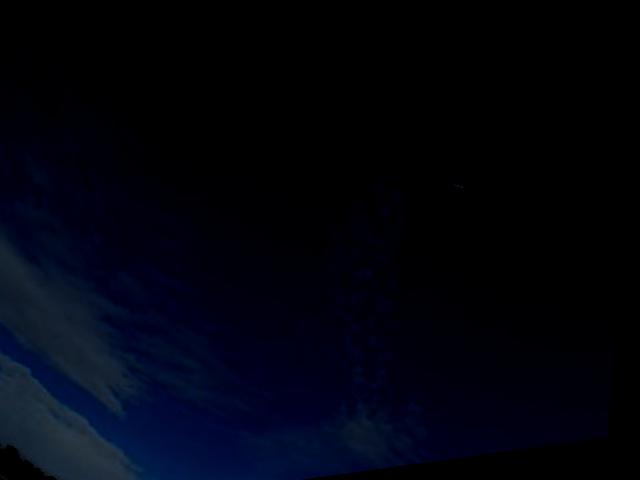uav: (443, 168, 481, 204)
